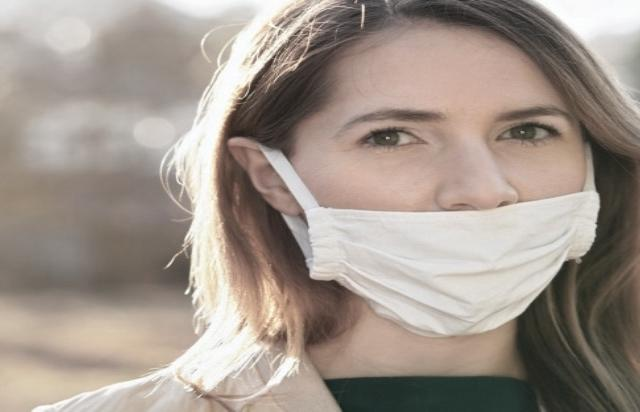mask_weared_incorrect: (190, 1, 602, 341)
